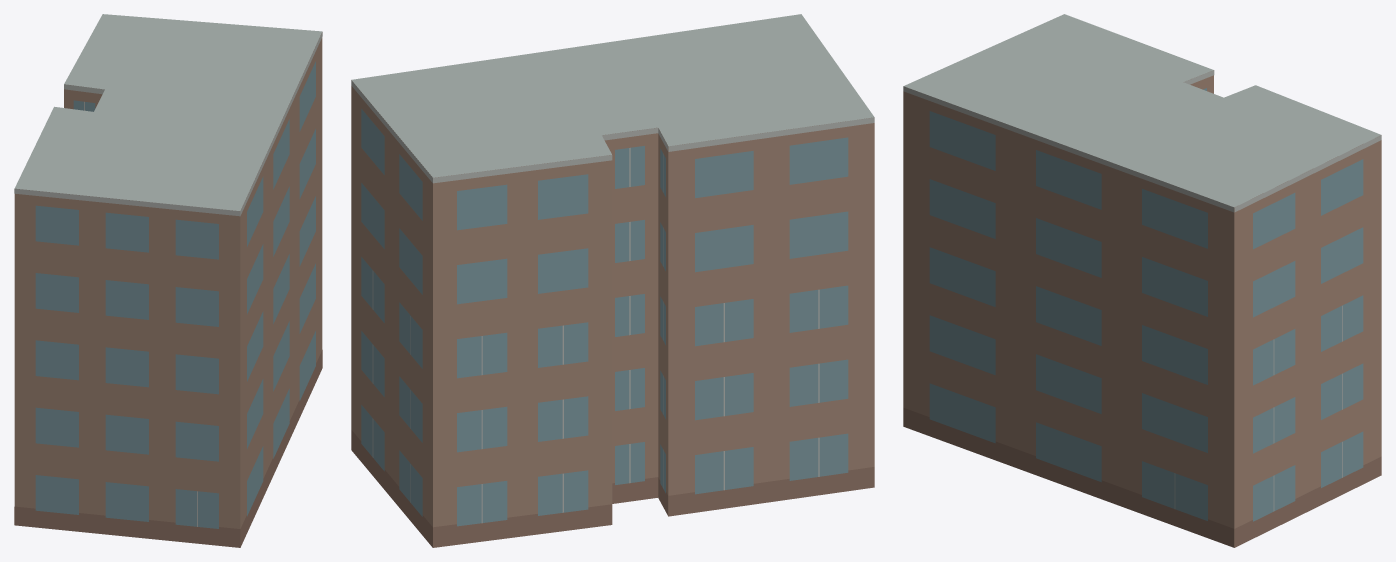
Rendered from survey-upis-32882958.glb.
3 views of the same model, side by side, from view 1: azimuth 30°, elevation 25°; view 2: azimuth 150°, elevation 25°; view 3: azimuth 270°, elevation 25° (orthographic). The views are drawn at different scales.
Parts seen in each view (by area): view 1: survey-upis-32882958.tmp; view 2: survey-upis-32882958.tmp; view 3: survey-upis-32882958.tmp.
Boxes of the visible parts, x1,y1,x2,y2 form: survey-upis-32882958.tmp: [14, 14, 322, 547]; survey-upis-32882958.tmp: [351, 14, 874, 547]; survey-upis-32882958.tmp: [903, 14, 1381, 547].
Bounding box in the file's own units: 19.63 × 16.1 × 20.5.
